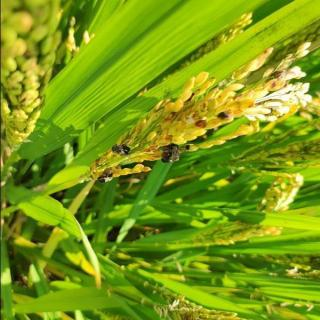Gosong-Palsu: (160, 143, 182, 165), (112, 141, 131, 158), (97, 168, 115, 185)
